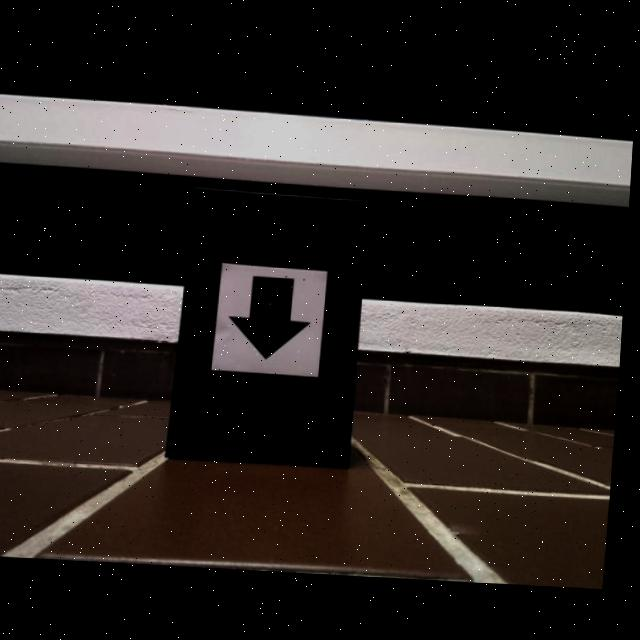DOWN: (230, 272, 314, 358)
